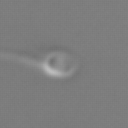normal: (1, 46, 44, 79)
